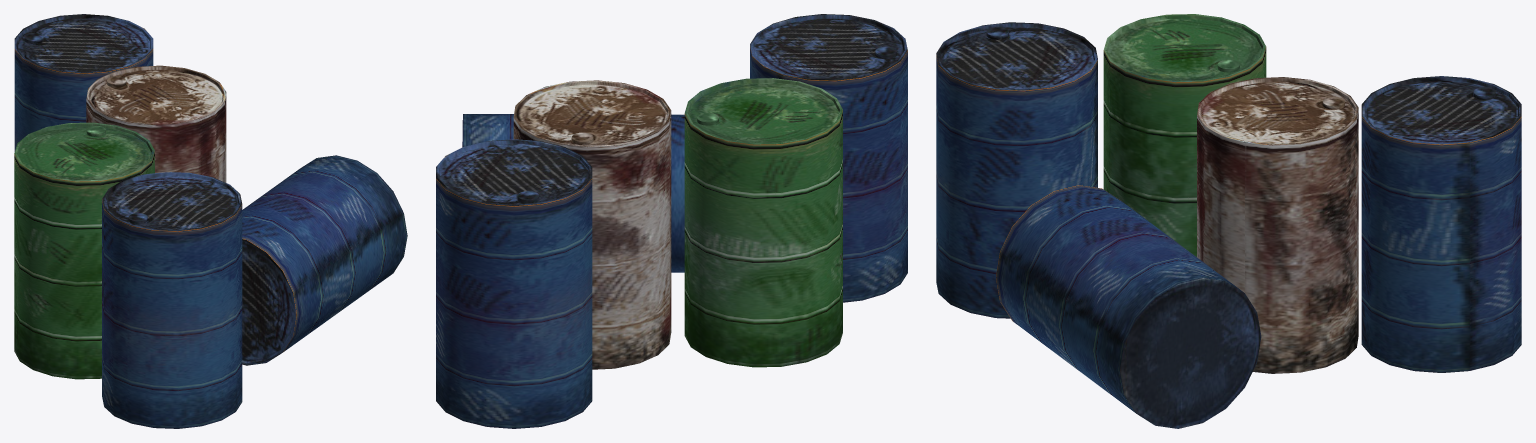
The model's file is barrels.fbx.
The picture shows the model from 3 angles, left to right: view 1: azimuth 30°, elevation 25°; view 2: azimuth 150°, elevation 25°; view 3: azimuth 270°, elevation 25°; orthographic projection. The views are drawn at different scales.
Visible parts, largest first — view 1: barell07, barell02, barell08, barell05, barell06; view 2: barell02, barell05, barell06, barell07, barell08; view 3: barell05, barell08, barell06, barell07, barell02.
Part boxes in pixels (<box>): barell07: <box>102,172,242,428</box>; barell02: <box>14,122,154,379</box>; barell08: <box>242,155,407,365</box>; barell05: <box>14,14,153,151</box>; barell06: <box>86,65,226,182</box>; barell02: <box>684,78,842,367</box>; barell05: <box>436,139,592,428</box>; barell06: <box>513,80,671,369</box>; barell07: <box>750,14,907,302</box>; barell08: <box>462,114,684,272</box>; barell05: <box>1361,76,1521,372</box>; barell08: <box>996,185,1261,428</box>; barell06: <box>1197,77,1358,373</box>; barell07: <box>936,22,1097,318</box>; barell02: <box>1103,14,1266,256</box>.
Bounding box in the file's own units: 199 × 106 × 245.
